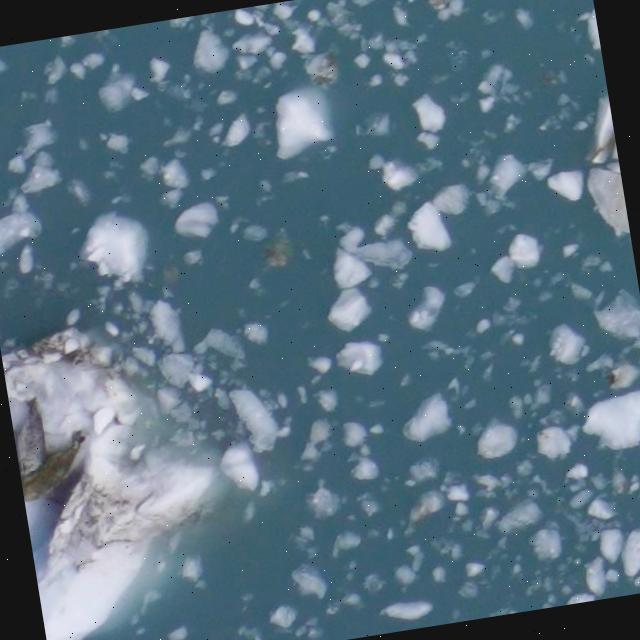seal: (10, 425, 102, 507), (19, 395, 44, 472), (16, 455, 23, 475), (12, 431, 19, 449)
